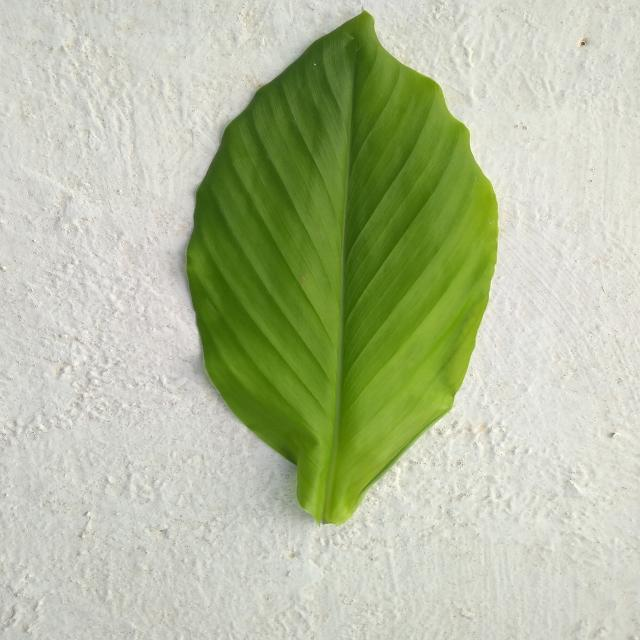turmeric: (187, 12, 498, 524)
